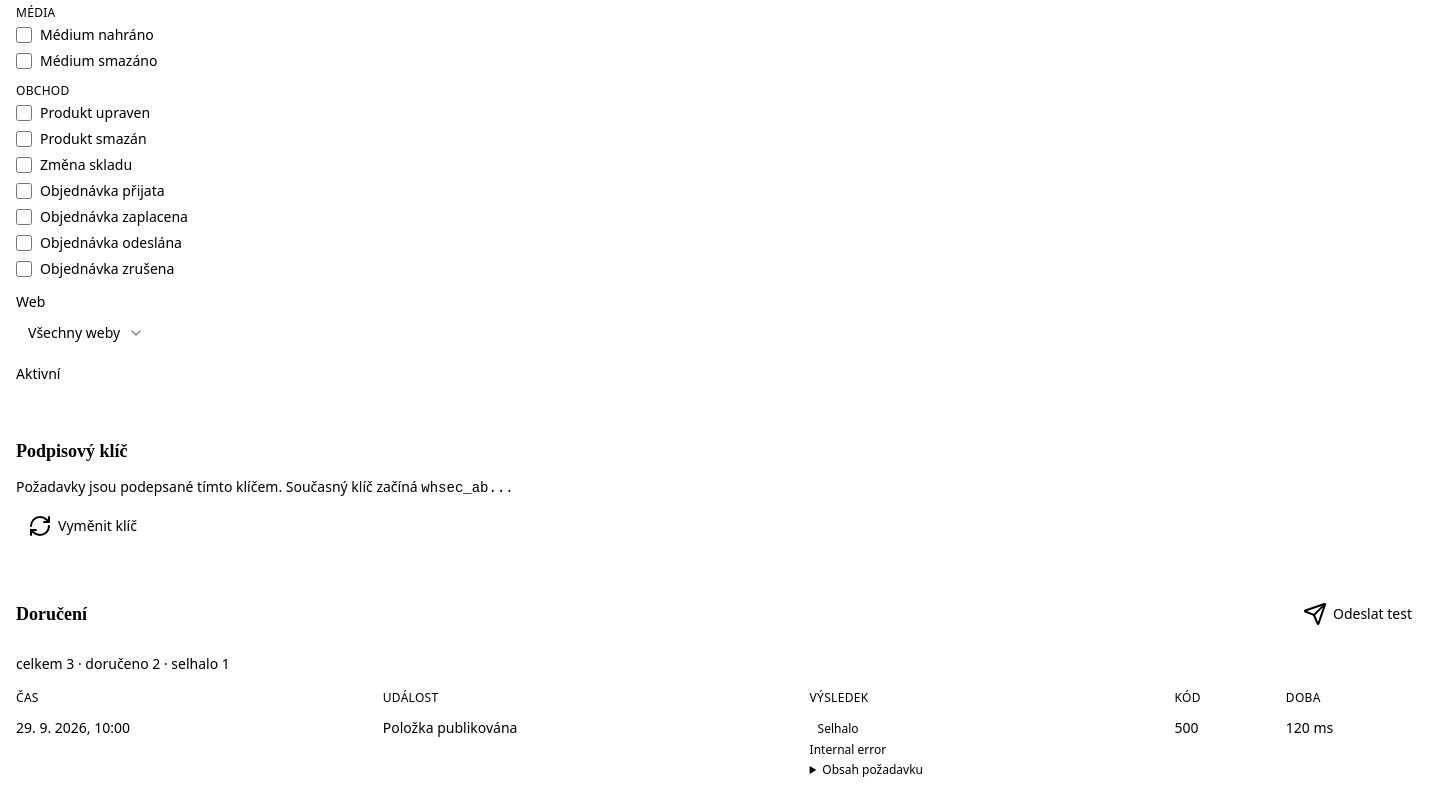
in Czech › reports a test delivery and shows the log in Czech
This screenshot has width=1440, height=802.
(page scrolled)
Click the button "Odeslat test" at (1358, 614), box x1=1291 y1=598 x2=1424 y2=630
(page scrolled)
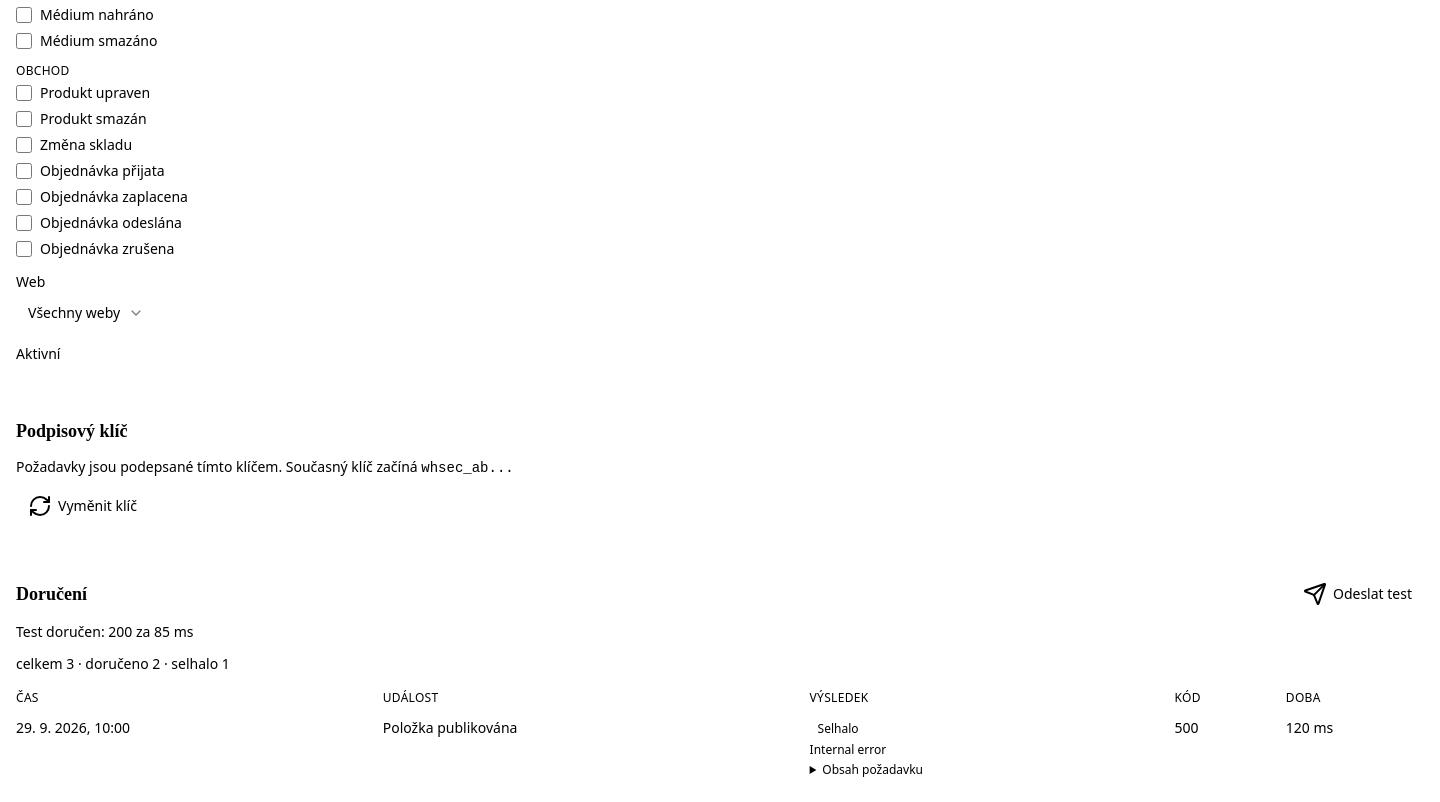
Check: the text "Selhalo" is shown, box x1=818 y1=720 x2=859 y2=737
Check: the text "Test doručen: 200 za 85 ms" is shown, box x1=16 y1=622 x2=194 y2=641
